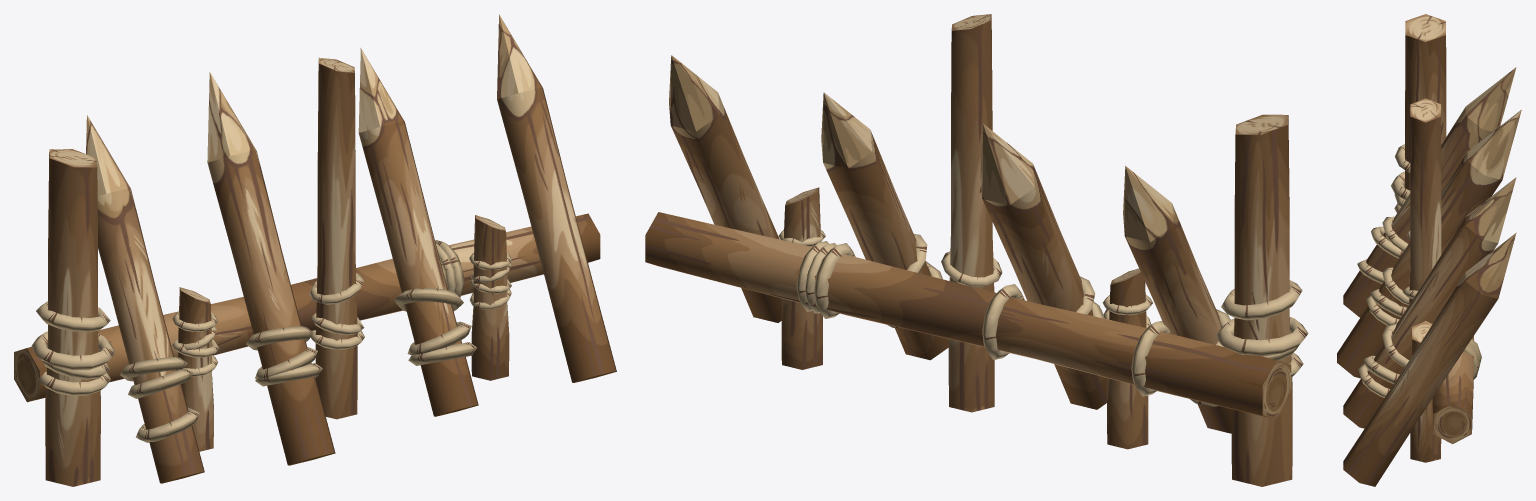
The model's file is muzhalan03.fbx.
3 renders of one model, left to right at view 1: azimuth 30°, elevation 25°; view 2: azimuth 150°, elevation 25°; view 3: azimuth 270°, elevation 25°, orthographic. The views are drawn at different scales.
Visible parts, largest first — view 1: MZL001; view 2: MZL001; view 3: MZL001.
Part boxes in pixels (x1,y1,x2,y2): MZL001: (14, 14, 616, 486); MZL001: (645, 14, 1308, 486); MZL001: (1337, 14, 1521, 486).
Size of the model in its own units: 35.87 by 21.87 by 12.28.
Materials: 1 (1 with a texture image).
